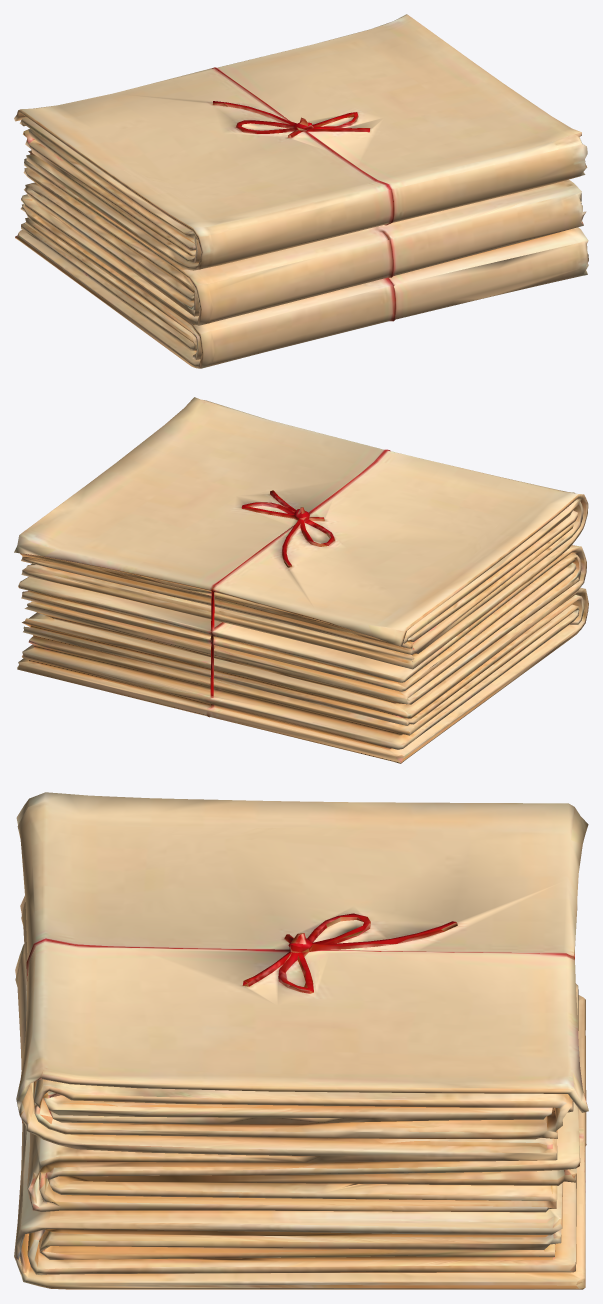
File: desk_files.glb
The picture shows the model from 3 angles, top to bottom: view 1: azimuth 30°, elevation 25°; view 2: azimuth 150°, elevation 25°; view 3: azimuth 270°, elevation 25°; orthographic projection. The views are drawn at different scales.
Visible parts, largest first — view 1: desk_files; view 2: desk_files; view 3: desk_files.
Boxes of the visible parts, <box> form: desk_files: <box>14,14,588,368</box>; desk_files: <box>14,397,588,763</box>; desk_files: <box>14,792,588,1289</box>.
Bounding box in the file's own units: 0.26 × 0.0911 × 0.2184.
1 material, 1 textured.
